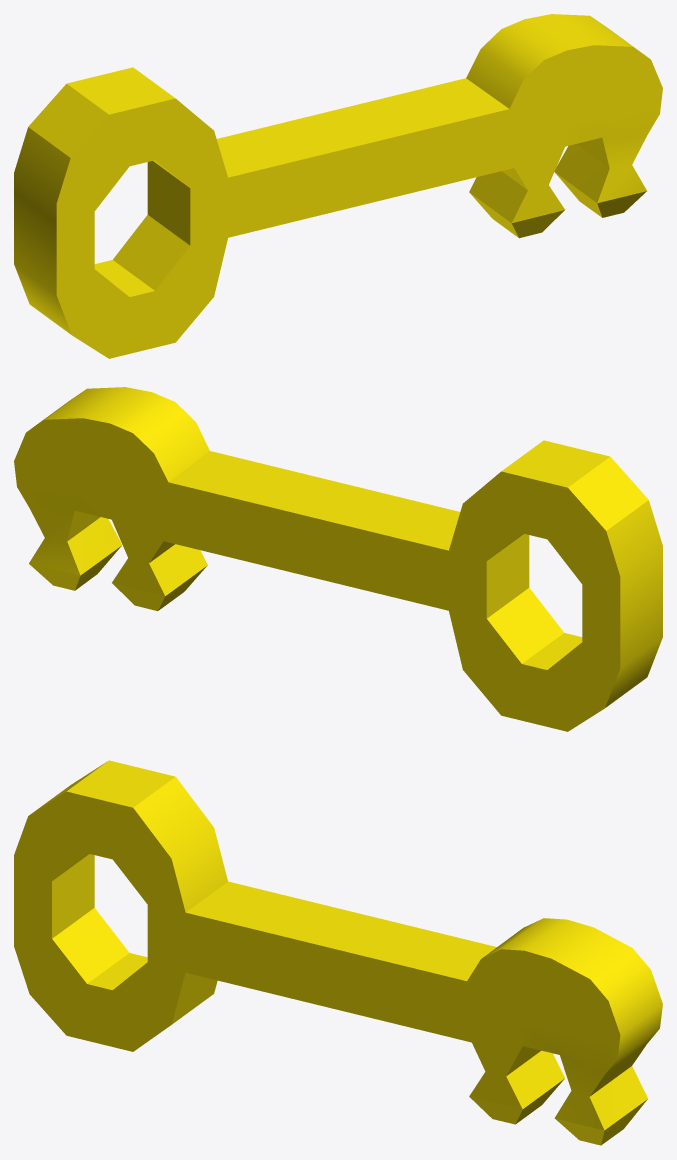
File: key.FBX
3 renders of one model, top to bottom at view 1: azimuth 30°, elevation 25°; view 2: azimuth 150°, elevation 25°; view 3: azimuth 330°, elevation 25°, orthographic.
Parts seen in each view (by area): view 1: Box001; view 2: Box001; view 3: Box001.
Boxes of the visible parts, x1,y1,x2,y2 form: Box001: (14, 14, 662, 358); Box001: (14, 387, 662, 731); Box001: (14, 760, 662, 1145).
Size of the model in its own units: 118 by 45.54 by 14.53.
